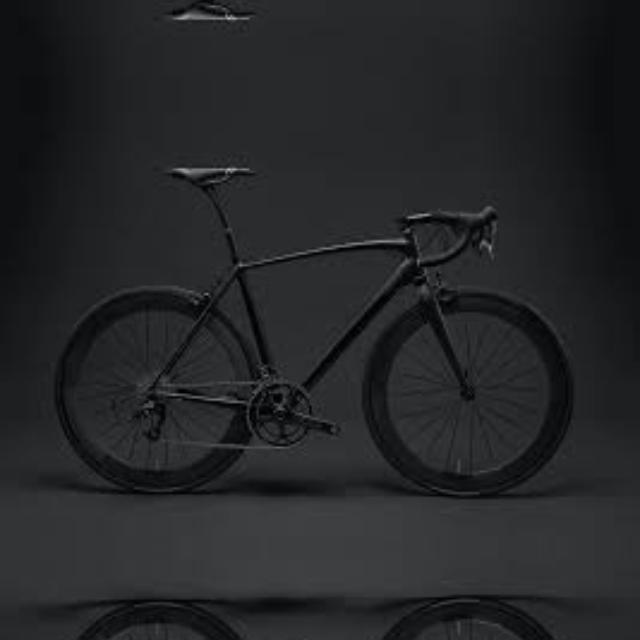obstacle: (42, 158, 608, 492), (42, 600, 607, 640), (42, 0, 607, 28)
